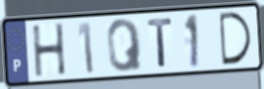1: (182, 12, 203, 69), (76, 19, 96, 76)
D: (217, 10, 255, 67)
H: (30, 21, 68, 80)
Q: (105, 17, 144, 74)
T: (146, 16, 175, 69)
